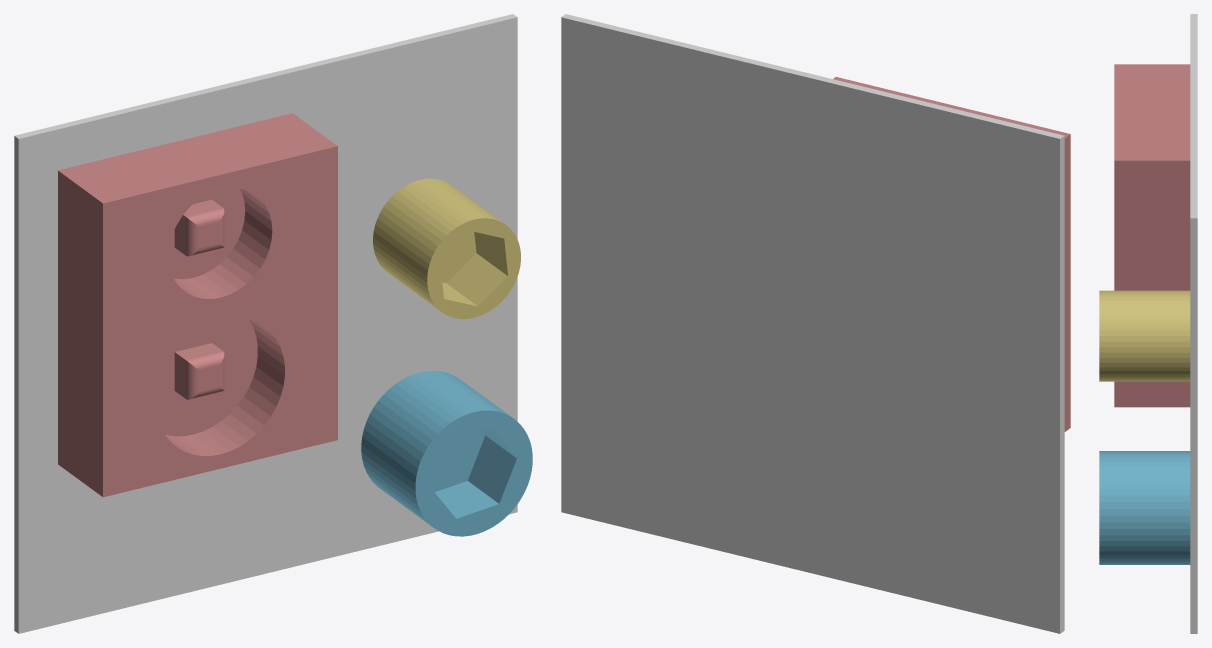
Rendered from pickup_layout.glb.
The picture shows the model from 3 angles, left to right: view 1: azimuth 30°, elevation 25°; view 2: azimuth 150°, elevation 25°; view 3: azimuth 270°, elevation 25°; orthographic projection. The views are drawn at different scales.
Parts seen in each view (by area): view 1: world, 0.obj, 2.obj, 1.obj; view 2: world, 0.obj; view 3: 0.obj, 2.obj, 1.obj, world.
Part boxes in pixels (x1,y1,x2,y2): world: [14, 14, 517, 633]; 0.obj: [58, 113, 337, 497]; 2.obj: [361, 370, 532, 536]; 1.obj: [373, 178, 520, 319]; world: [561, 14, 1064, 633]; 0.obj: [833, 77, 1070, 431]; 0.obj: [1114, 64, 1190, 407]; 2.obj: [1099, 451, 1190, 564]; 1.obj: [1099, 290, 1190, 381]; world: [1190, 14, 1197, 633].
Size of the model in its own units: 12.75 by 12.08 by 2.6.
